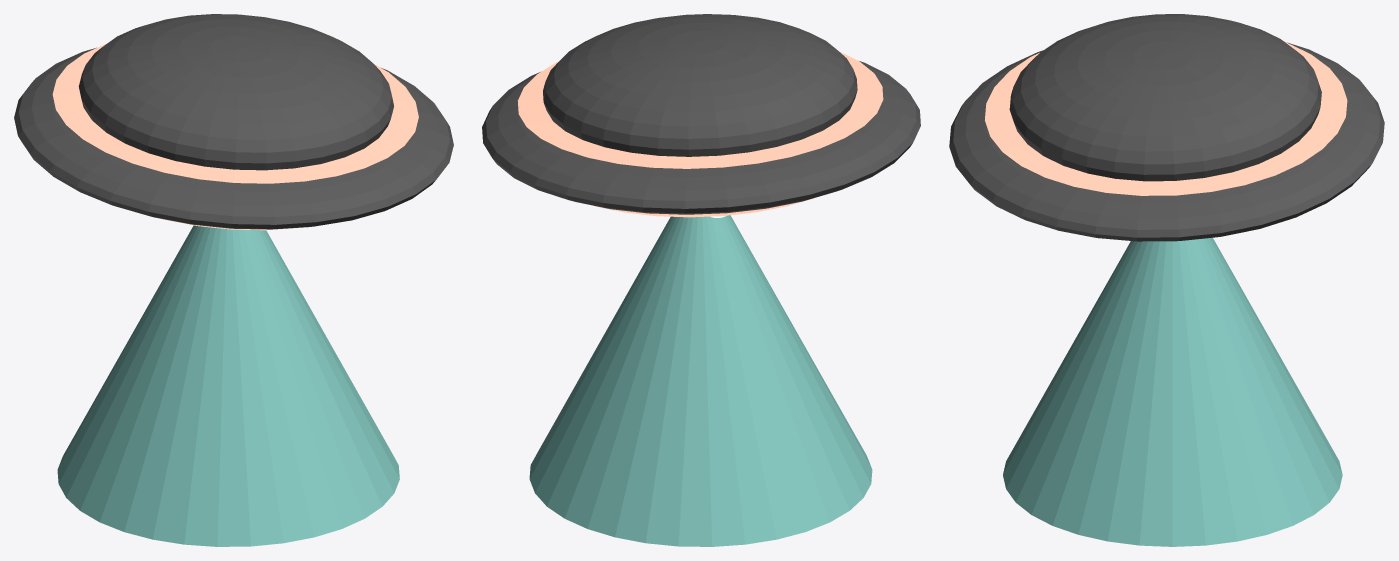
Rendered from ship.fbx.
3 views of the same model, side by side, from view 1: azimuth 30°, elevation 25°; view 2: azimuth 150°, elevation 25°; view 3: azimuth 270°, elevation 25° (orthographic).
Visible parts, largest first — view 1: Tractor Beam, SpaceShip Hull; view 2: Tractor Beam, SpaceShip Hull; view 3: SpaceShip Hull, Tractor Beam.
Boxes of the visible parts, x1,y1,x2,y2 form: Tractor Beam: (57,225,399,546); SpaceShip Hull: (14,14,453,230); Tractor Beam: (529,215,872,546); SpaceShip Hull: (482,14,920,217); SpaceShip Hull: (949,14,1384,241); Tractor Beam: (1003,237,1342,546).
Size of the model in its own units: 30.73 by 33.12 by 30.79.
